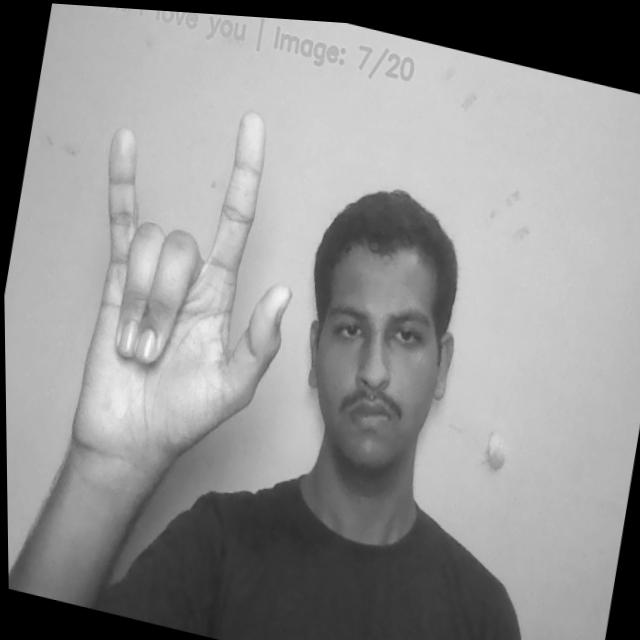I love you: (53, 72, 319, 488)
